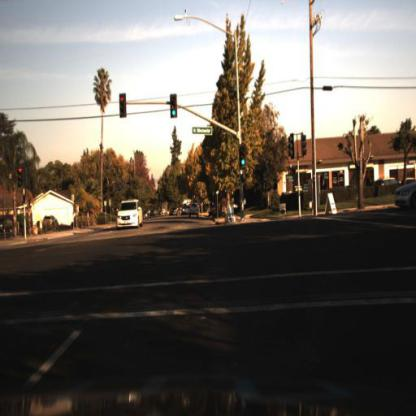car: (117, 201, 144, 232), (42, 212, 62, 232), (189, 203, 202, 219)
trafficLight-Green: (169, 92, 180, 121), (240, 144, 249, 170)
trafficLight-RedLeft: (17, 166, 26, 192), (17, 166, 26, 191), (120, 92, 128, 116)
